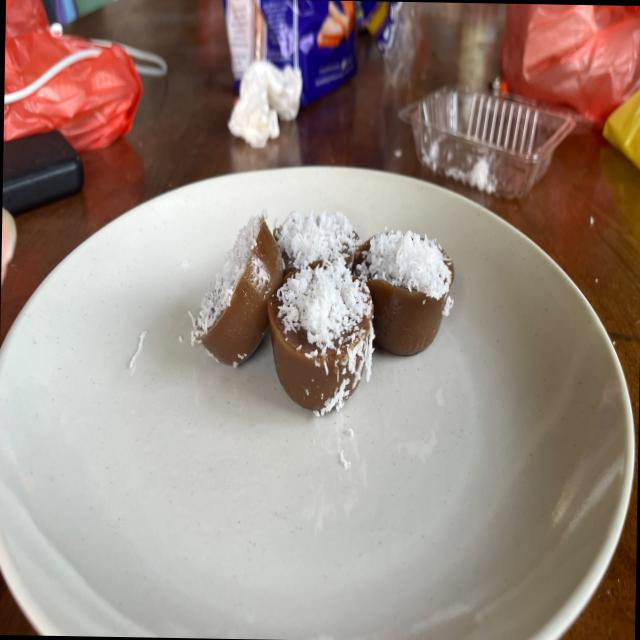Kuih lompang: (268, 258, 374, 413), (190, 210, 283, 365), (356, 230, 453, 355), (273, 211, 360, 282)
